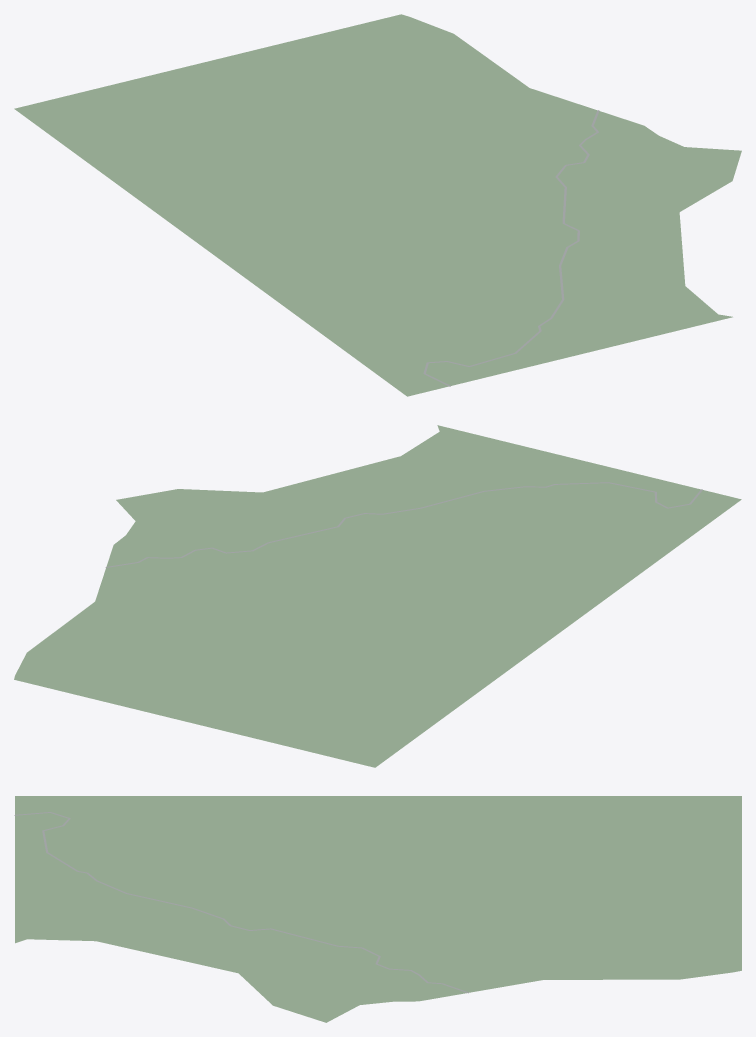
File: -7_12-known-coarse.glb
3 views of the same model, one above another, from view 1: azimuth 30°, elevation 25°; view 2: azimuth 150°, elevation 25°; view 3: azimuth 270°, elevation 25° (orthographic). The views are drawn at different scales.
Size of the model in its own units: 735 by 0.1 by 996.
